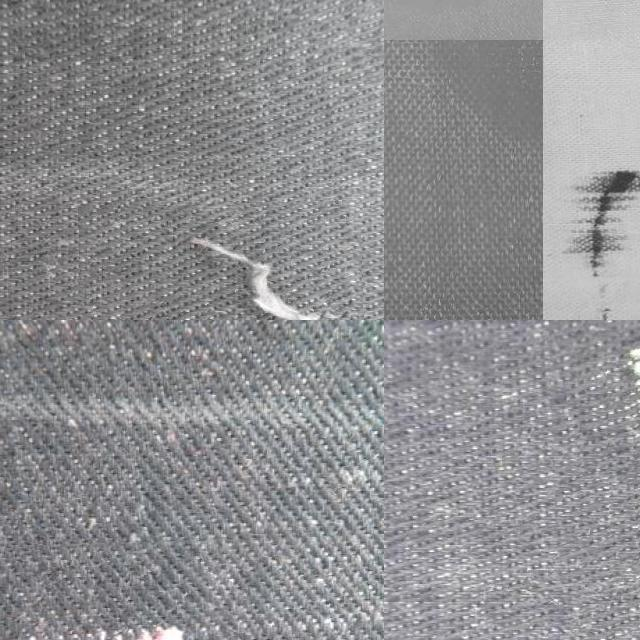Hole: (392, 40, 542, 193), (556, 116, 640, 320), (478, 278, 542, 320)
Thread_other: (0, 535, 384, 640), (78, 201, 364, 320), (550, 320, 640, 640)
